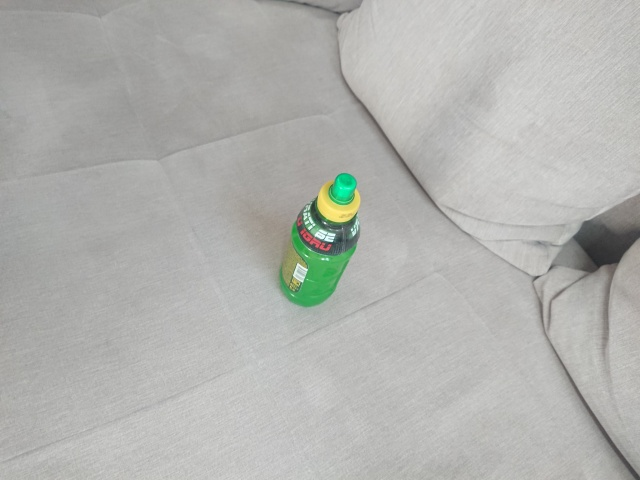Vindi Iso Sport Lemon-Grapefruit 500mL: (275, 171, 364, 310)
